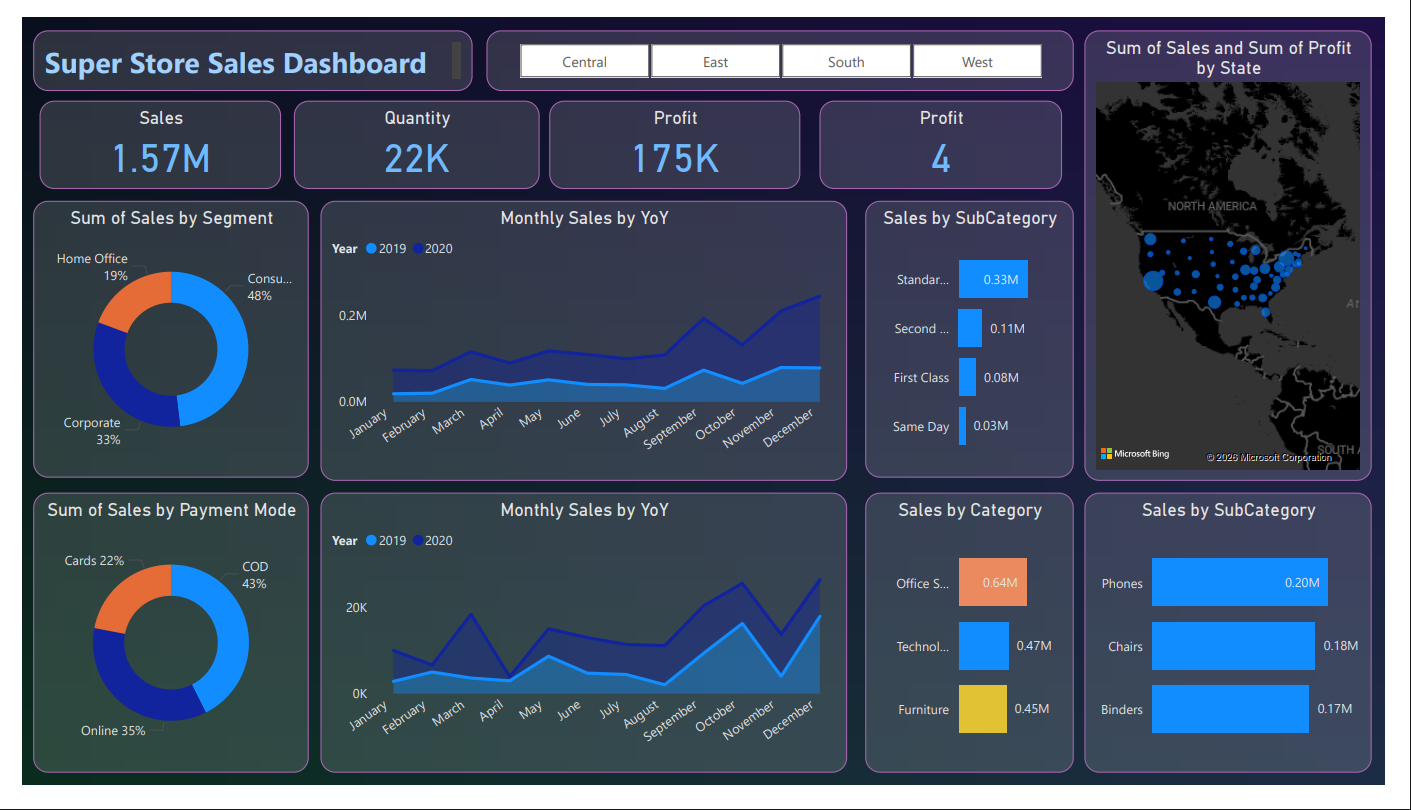

This screenshot's page, from the dashboard's own definition file:
{"tool":"powerbi","page":{"name":"Page 1","canvas":[1280,720],"ordinal":0},"visuals":[{"type":"clusteredBarChart","title":"Sales by Category","fields":{"Category":["SuperStore_Sales.Category"],"Y":["Sum(SuperStore_Sales.Sales)"]},"box":[791.8,446,196.2,263.5],"z":0},{"type":"clusteredBarChart","title":"Sales by SubCategory","fields":{"Category":["SuperStore_Sales.Sub-Category"],"Y":["Sum(SuperStore_Sales.Sales)"]},"box":[997.6,446,270.3,263.5],"z":1000},{"type":"clusteredBarChart","title":"Sales by SubCategory","fields":{"Category":["SuperStore_Sales.Ship Mode"],"Y":["Sum(SuperStore_Sales.Sales)"]},"box":[791.8,171.5,196.2,260.7],"z":2000},{"type":"stackedAreaChart","title":"Monthly Sales by YoY","fields":{"Y":["Sum(SuperStore_Sales.Sales)"],"Category":["SuperStore_Sales.Order Date.Variation.Date Hierarchy.Month","SuperStore_Sales.Order Date.Variation.Date Hierarchy.Day"],"Series":["SuperStore_Sales.Order Date.Variation.Date Hierarchy.Year"]},"box":[279.9,171.5,495.4,263.5],"z":3000},{"type":"stackedAreaChart","title":"Monthly Sales by YoY","fields":{"Category":["SuperStore_Sales.Order Date.Variation.Date Hierarchy.Month","SuperStore_Sales.Order Date.Variation.Date Hierarchy.Day"],"Series":["SuperStore_Sales.Order Date.Variation.Date Hierarchy.Year"],"Y":["Sum(SuperStore_Sales.Profit)"]},"box":[279.9,446,495.4,263.5],"z":4000},{"type":"map","fields":{"Category":["SuperStore_Sales.State"],"Size":["Sum(SuperStore_Sales.Sales)"]},"box":[997.6,12.3,270.3,422.6],"z":5000},{"type":"donutChart","fields":{"Category":["SuperStore_Sales.Segment"],"Y":["Sum(SuperStore_Sales.Sales)"]},"box":[9.6,171.5,259.3,260.7],"z":6000},{"type":"donutChart","fields":{"Category":["SuperStore_Sales.Payment Mode"],"Y":["Sum(SuperStore_Sales.Sales)"]},"box":[9.6,446,259.3,263.5],"z":7000},{"type":"slicer","fields":{"Values":["SuperStore_Sales.Region"]},"box":[436.4,12.3,551.6,56.3],"z":8000},{"type":"textbox","box":[9.6,12.3,413,56.3],"z":9000},{"type":"card","title":"Sales","fields":{"Values":["Sum(SuperStore_Sales.Sales)"]},"box":[16.5,78.2,226.4,82.3],"z":10000},{"type":"card","title":"Quantity","fields":{"Values":["Sum(SuperStore_Sales.Quantity)"]},"box":[255.2,78.2,230.5,82.3],"z":11000},{"type":"card","title":"Profit","fields":{"Values":["Sum(SuperStore_Sales.Profit)"]},"box":[495.4,78.2,236,82.3],"z":12000},{"type":"card","title":"Profit","fields":{"Values":["Avg(SuperStore_Sales.AvgDelivery)"]},"box":[749.2,78.2,227.8,82.3],"z":13000}]}

Visuals, with their boxes in screenshot pixels (x1, y1, x2, y2), scaled from the page's 1280x720 canvas onto the 1411x810 screenshot:
"Sales by Category" clusteredBarChart: {"x1": 873, "y1": 502, "x2": 1089, "y2": 798}
"Sales by SubCategory" clusteredBarChart: {"x1": 1100, "y1": 502, "x2": 1398, "y2": 798}
"Sales by SubCategory" clusteredBarChart: {"x1": 873, "y1": 193, "x2": 1089, "y2": 486}
"Monthly Sales by YoY" stackedAreaChart: {"x1": 309, "y1": 193, "x2": 855, "y2": 489}
"Monthly Sales by YoY" stackedAreaChart: {"x1": 309, "y1": 502, "x2": 855, "y2": 798}
map - SuperStore_Sales.State x Sum(SuperStore_Sales.Sales): {"x1": 1100, "y1": 14, "x2": 1398, "y2": 489}
donutChart - SuperStore_Sales.Segment x Sum(SuperStore_Sales.Sales): {"x1": 11, "y1": 193, "x2": 296, "y2": 486}
donutChart - SuperStore_Sales.Payment Mode x Sum(SuperStore_Sales.Sales): {"x1": 11, "y1": 502, "x2": 296, "y2": 798}
slicer - SuperStore_Sales.Region: {"x1": 481, "y1": 14, "x2": 1089, "y2": 77}
textbox: {"x1": 11, "y1": 14, "x2": 466, "y2": 77}
"Sales" card: {"x1": 18, "y1": 88, "x2": 268, "y2": 181}
"Quantity" card: {"x1": 281, "y1": 88, "x2": 535, "y2": 181}
"Profit" card: {"x1": 546, "y1": 88, "x2": 806, "y2": 181}
"Profit" card: {"x1": 826, "y1": 88, "x2": 1077, "y2": 181}
